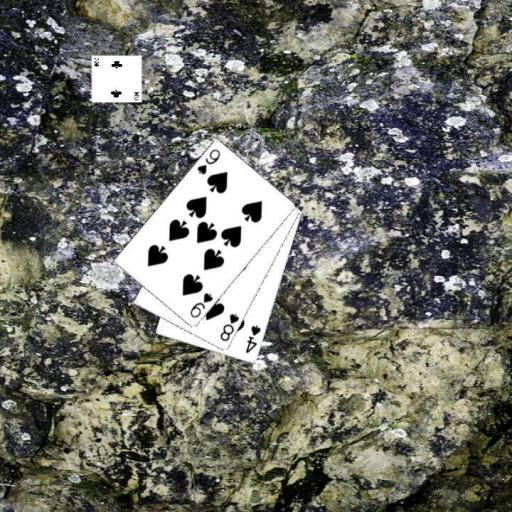4S: (243, 322, 263, 355)
8S: (217, 311, 241, 343)
9S: (187, 290, 215, 320), (194, 146, 222, 176)
